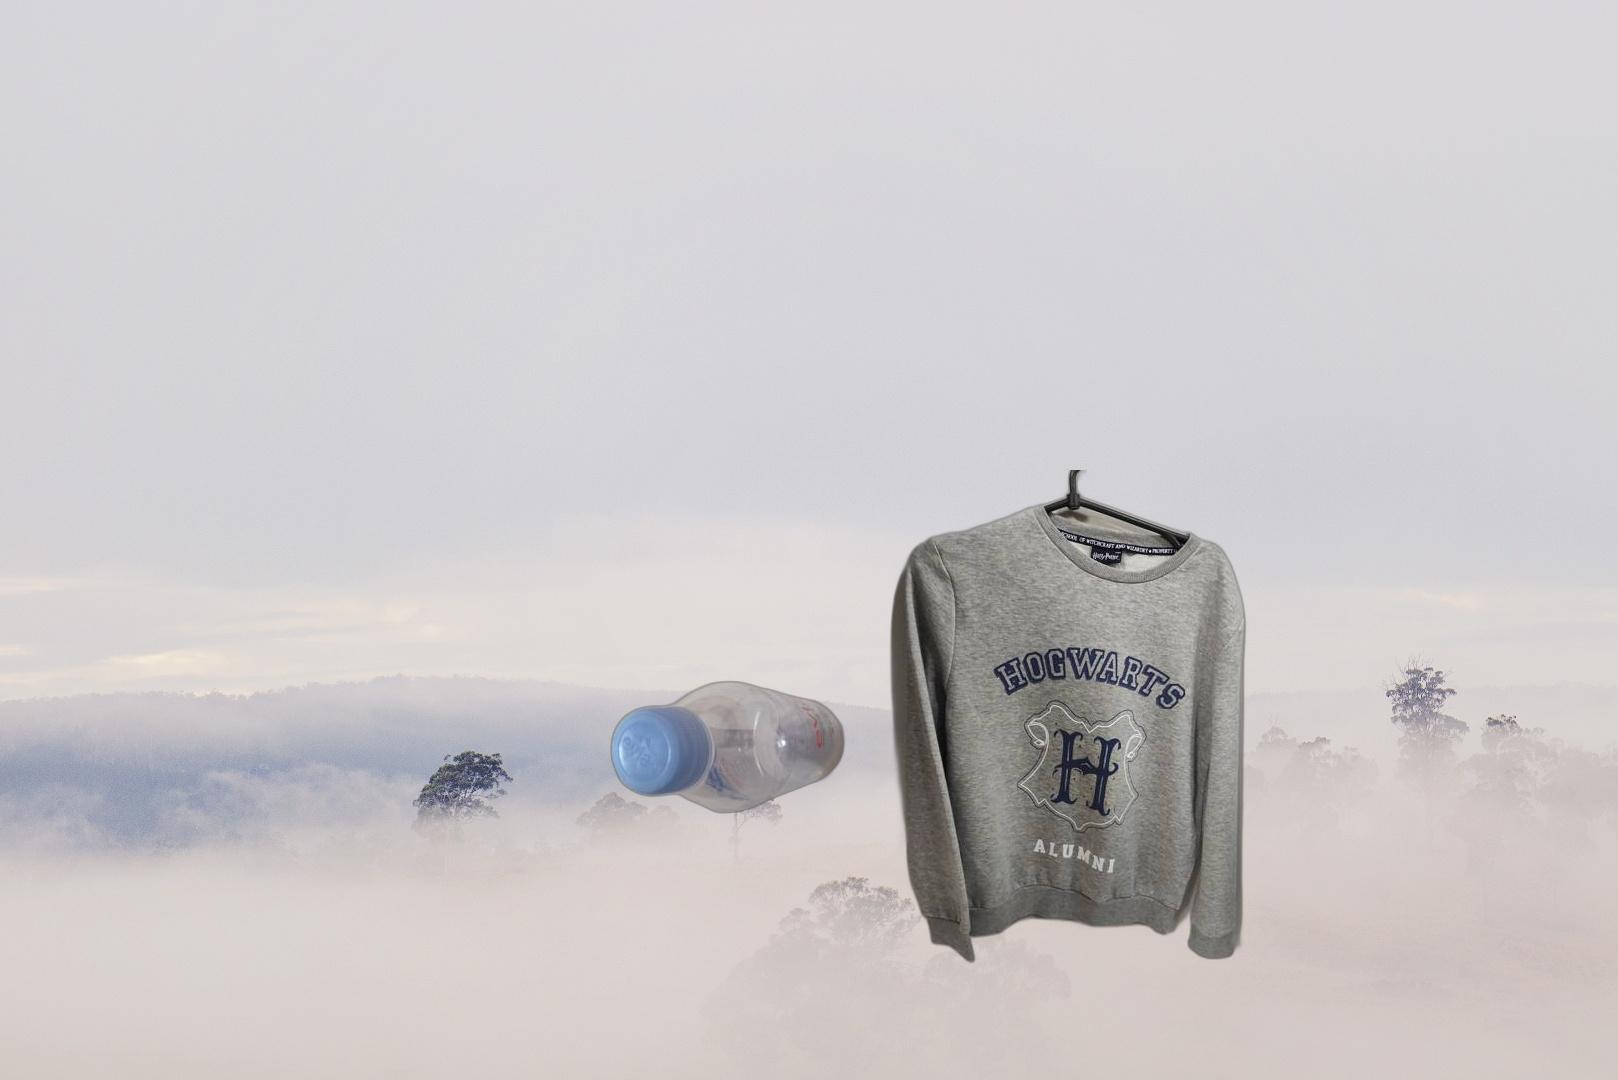clothes: (887, 470, 1249, 965)
plastic-bottles: (606, 679, 859, 816)
